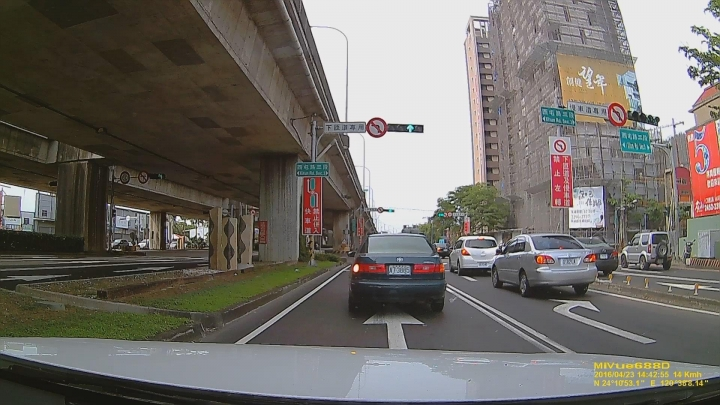No_left_turn: (608, 103, 626, 127), (367, 118, 387, 138)
